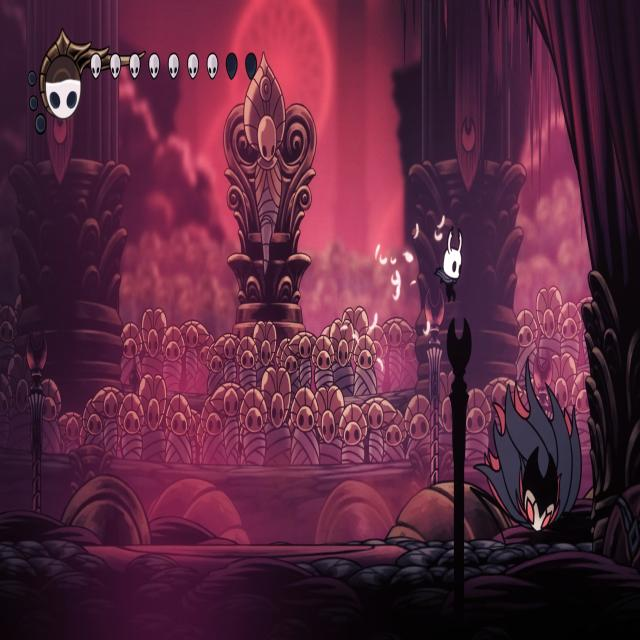Dive Dash: (470, 348, 612, 539)
Player: (434, 222, 466, 304)
